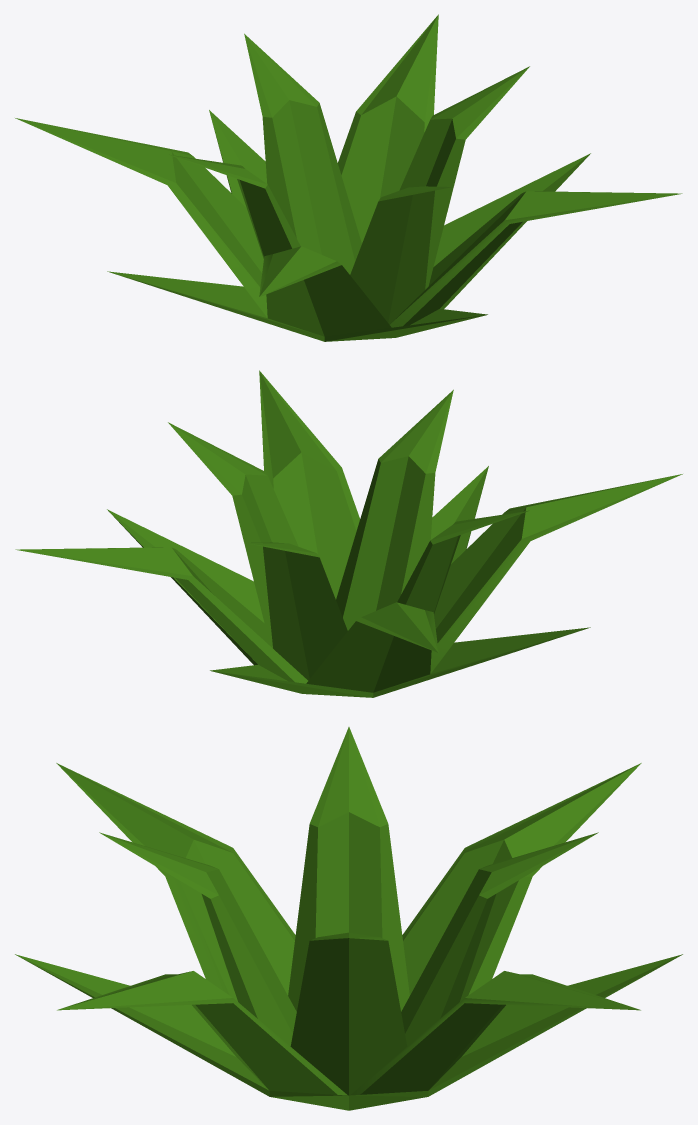
The model's file is Grass02.FBX.
3 views of the same model, one above another, from view 1: azimuth 30°, elevation 25°; view 2: azimuth 150°, elevation 25°; view 3: azimuth 270°, elevation 25° (orthographic). The views are drawn at different scales.
Parts seen in each view (by area): view 1: Cylinder001; view 2: Cylinder001; view 3: Cylinder001.
Boxes of the visible parts, x1,y1,x2,y2 form: Cylinder001: (15,14,682,341); Cylinder001: (15,370,682,697); Cylinder001: (15,727,682,1110).
Bounding box in the file's own units: 10 × 10 × 3.81.
